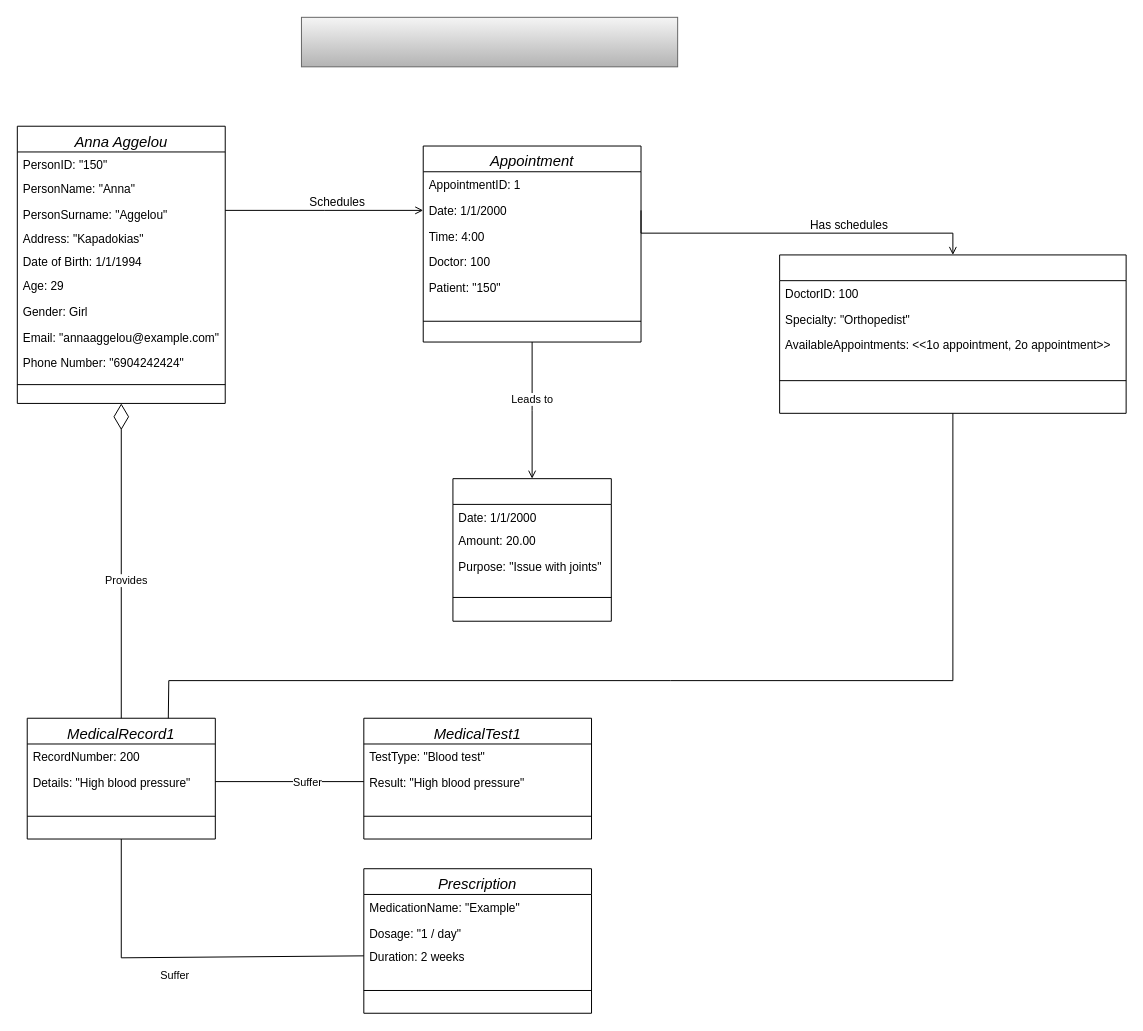
Image size: 1143x1031. Some labels were removed from this diagram. The shapes that lost their labels are listed below. From the top down, each one's box as (x1, y1, x2, y2) in pixels, then its label:
(300, 16, 678, 67): Object Diagram
(779, 254, 1126, 413): Dr. Tasos Anagnwstopoulos
(452, 478, 611, 621): Bill
